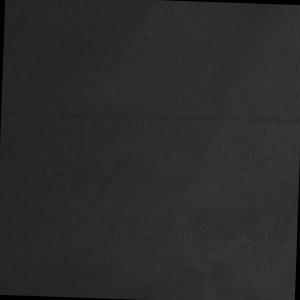Wrinkle: (169, 202, 243, 300), (66, 151, 139, 242), (197, 3, 274, 78), (119, 1, 166, 55)
